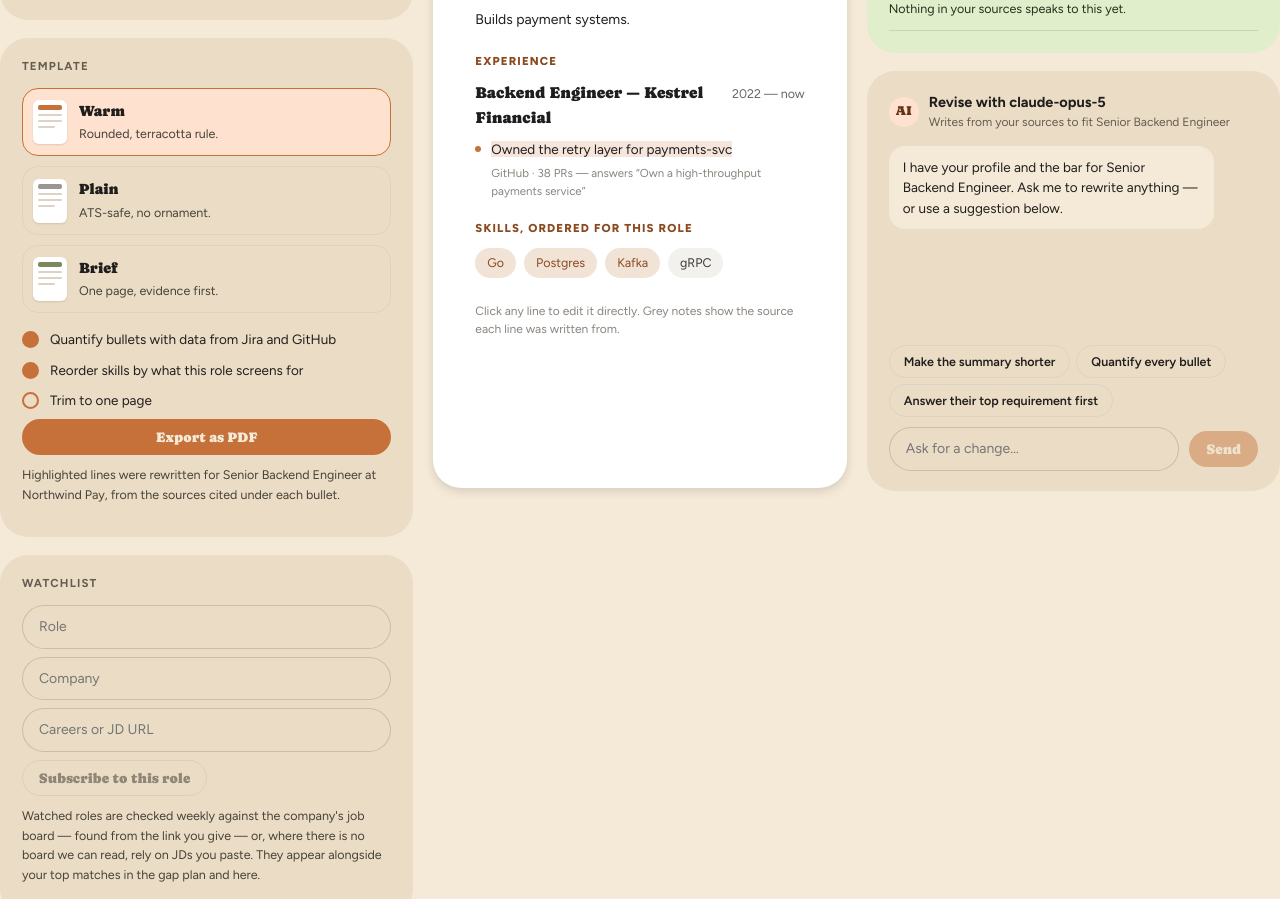
Test: résumé screen › shows a rejected revision as an error, with nothing to apply
The image size is (1280, 899).
(page scrolled)
Type "Add a promotion" into the field labelled "Ask for a change" at (1034, 449), box [889,427,1179,471]
Then press Enter
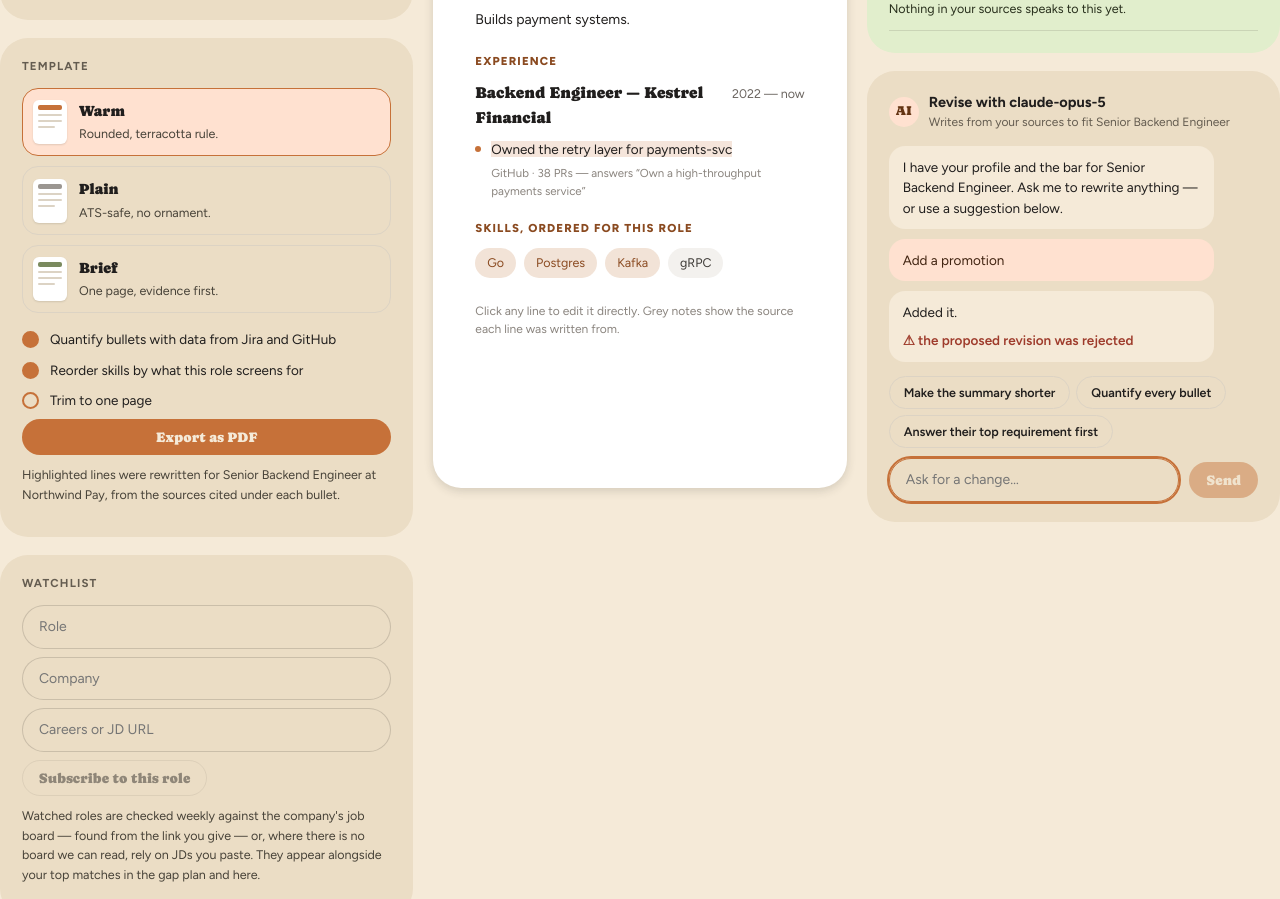
expect the text "⚠ the proposed revision was rejected" is shown: met, box [903,332,1134,348]
